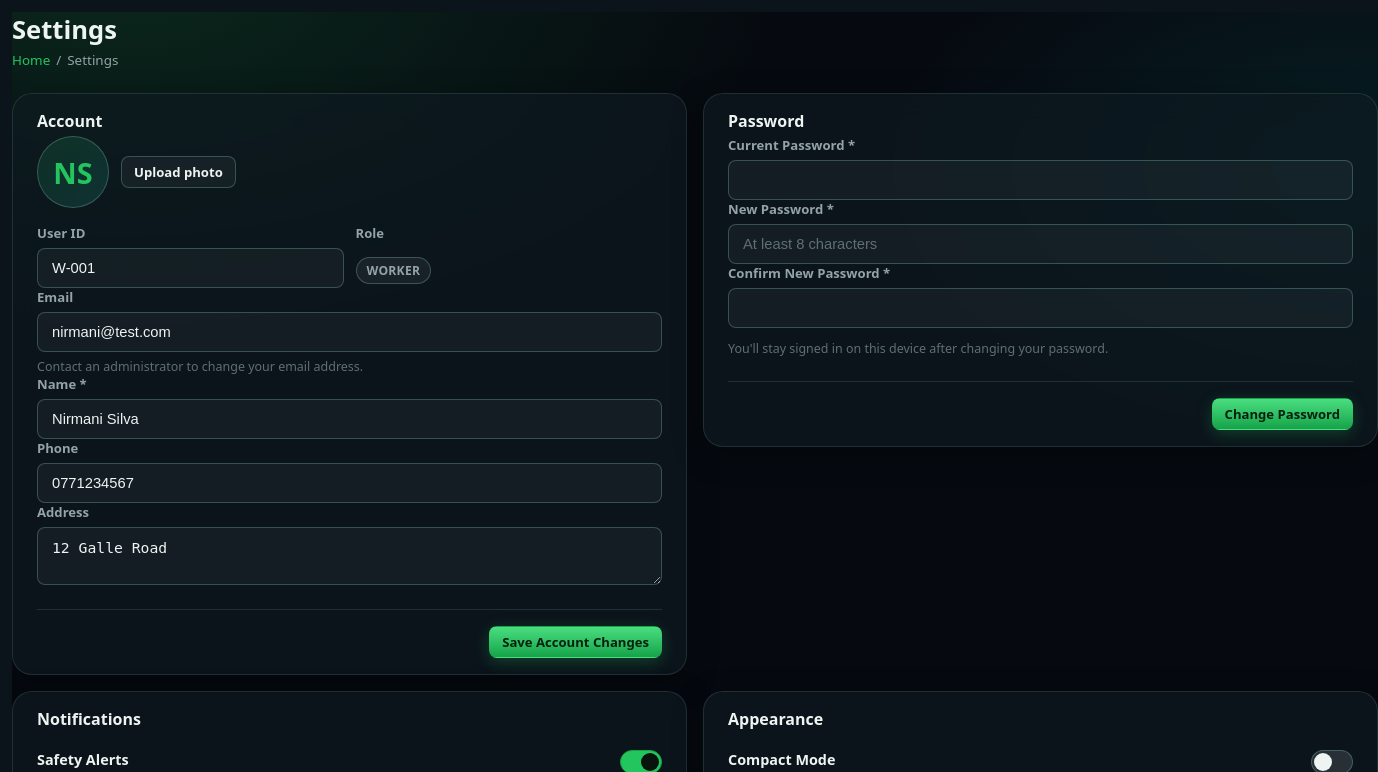
Test: SettingsPage — Password › client-side validation: required fields and mismatch
Expected: the field showing "Nirmani Silva" is shown, [37,399,662,439]
Click the button "Change Password": coordinates (1282, 414) [1212,398,1353,430]
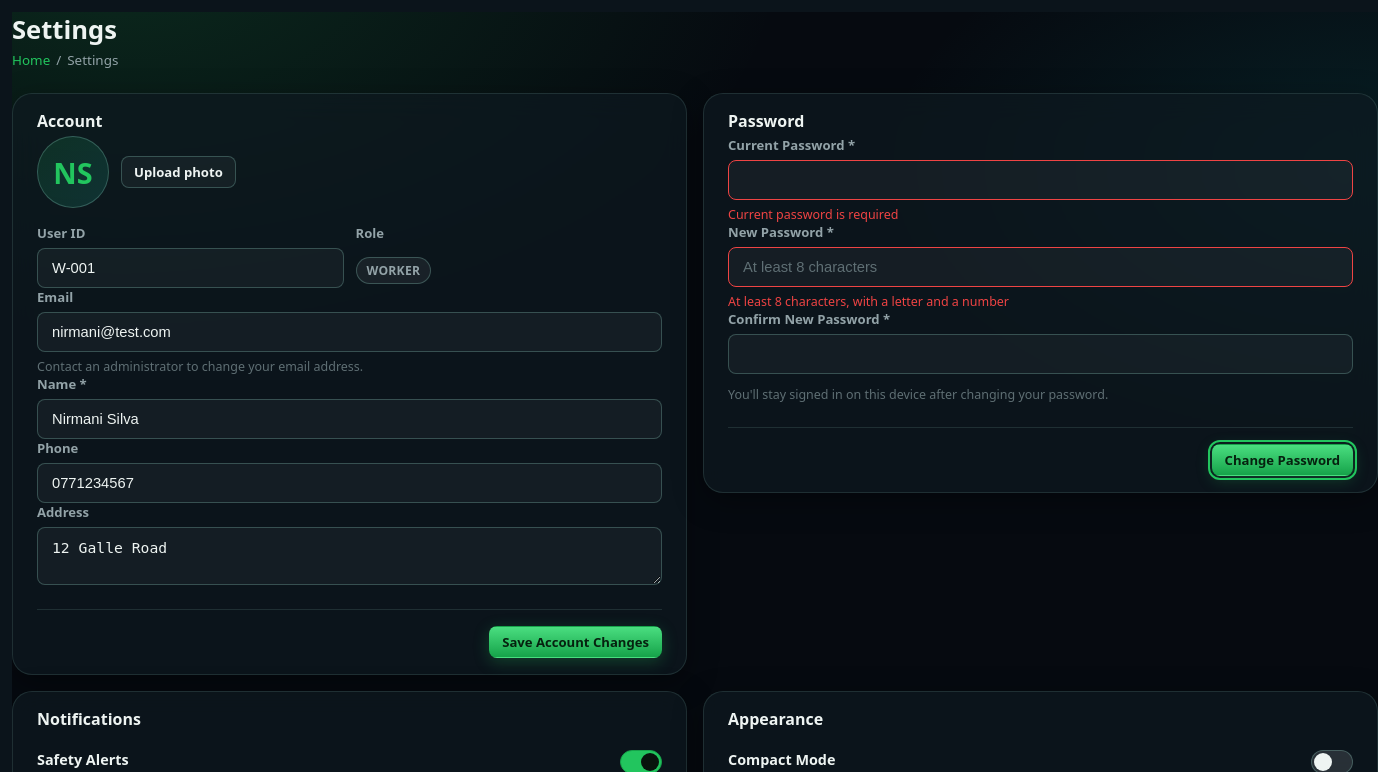
Result: the text "Current password is required" is shown at [728,206,898,223]
In the password field labelled "Current Password *": coordinates (1040, 180) [728,160,1353,200], type "OldPass1"
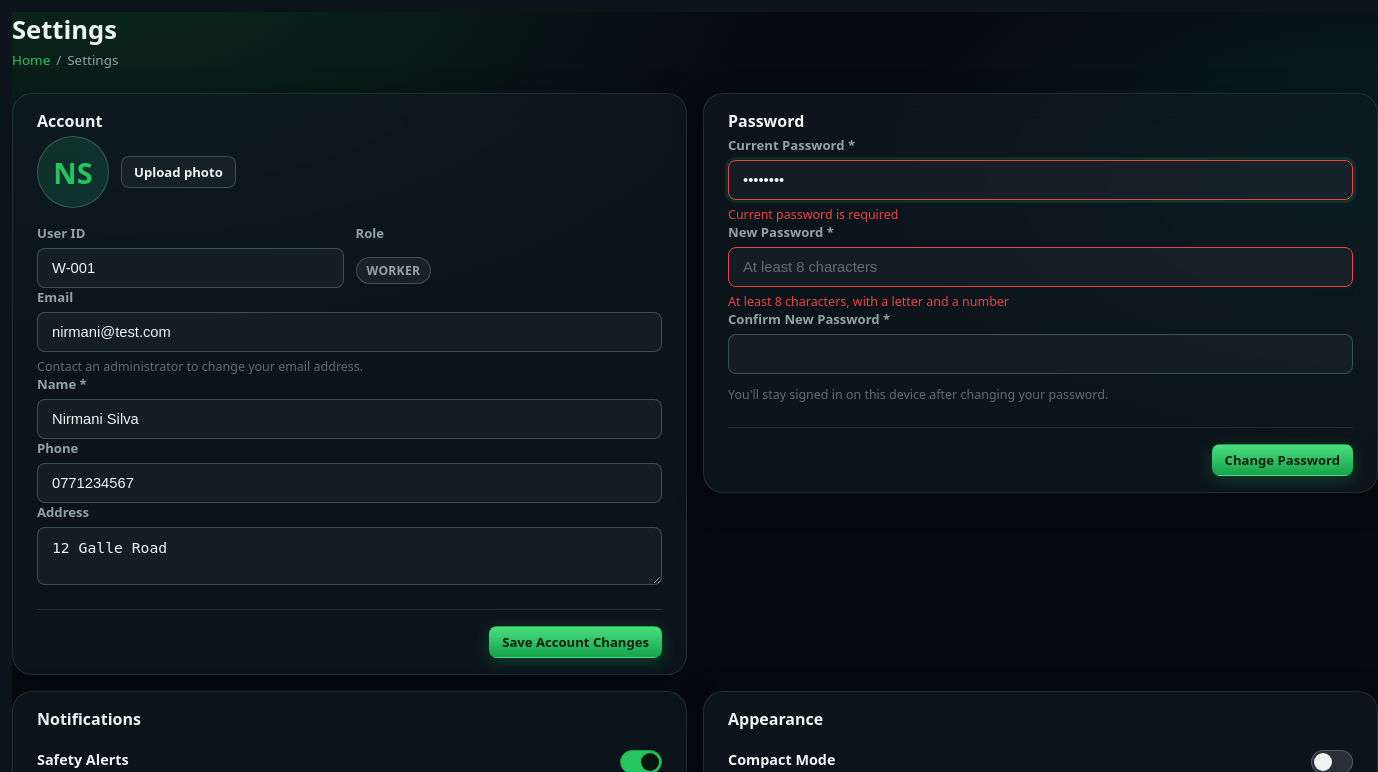
In the password field labelled "New Password *": coordinates (1040, 267) [728,247,1353,287], type "NewPass2"
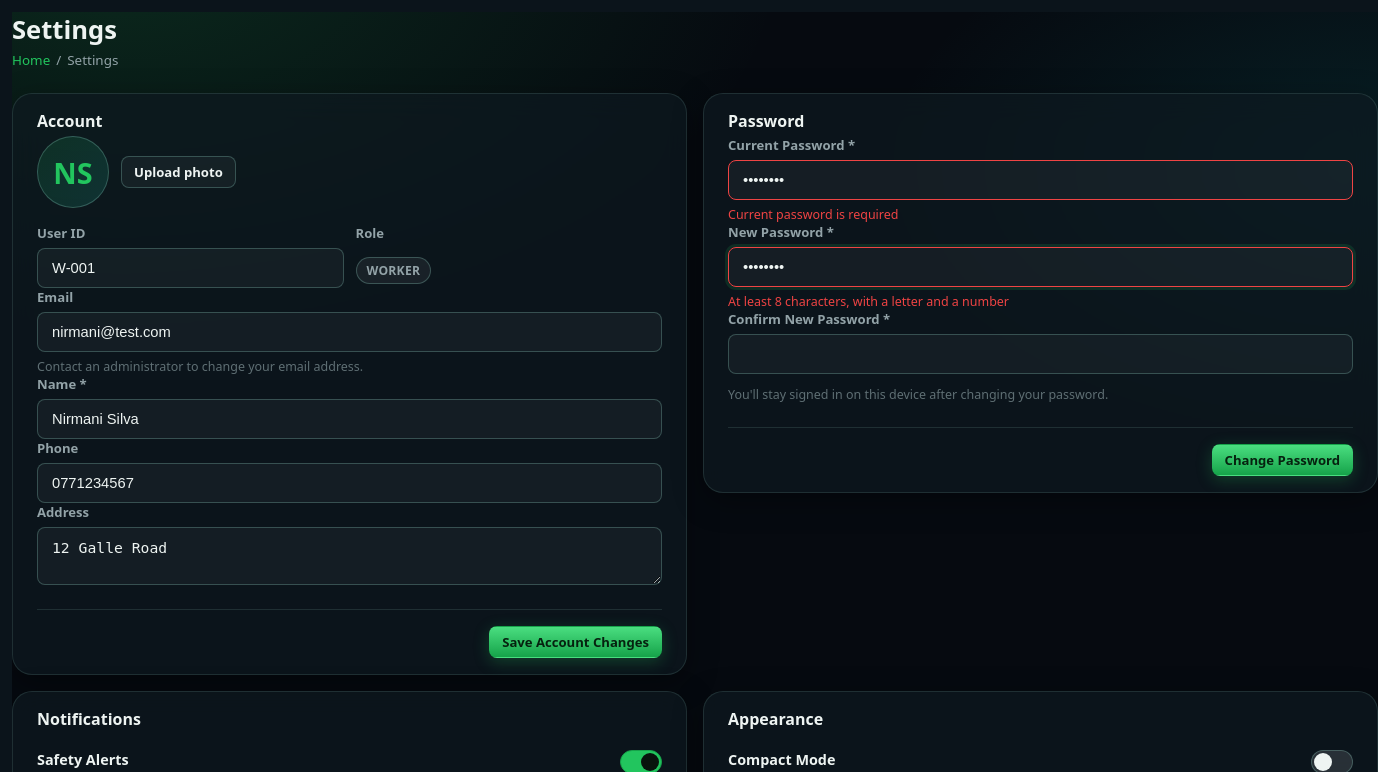
In the password field labelled "Confirm New Password *": coordinates (1040, 354) [728,334,1353,374], type "Different3"
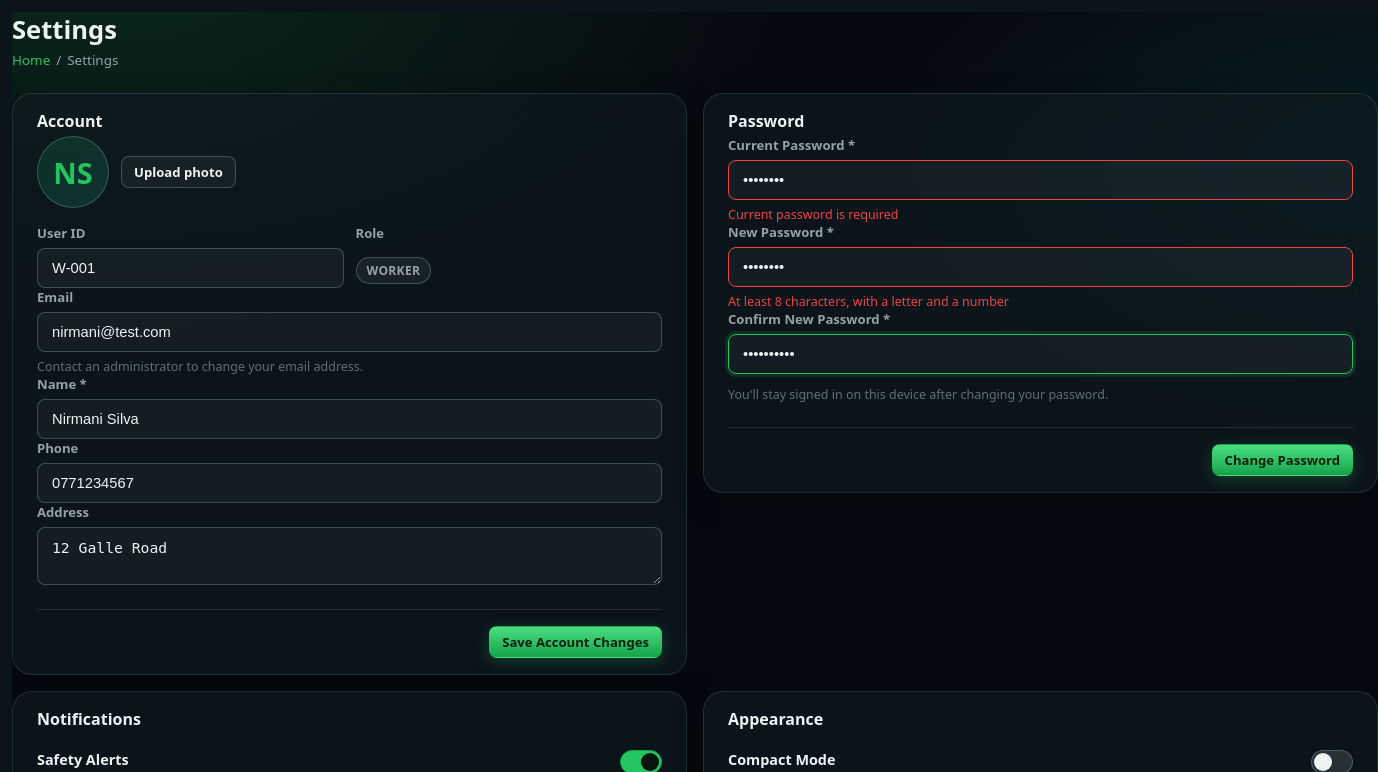
Click the button "Change Password": coordinates (1282, 460) [1212,444,1353,476]
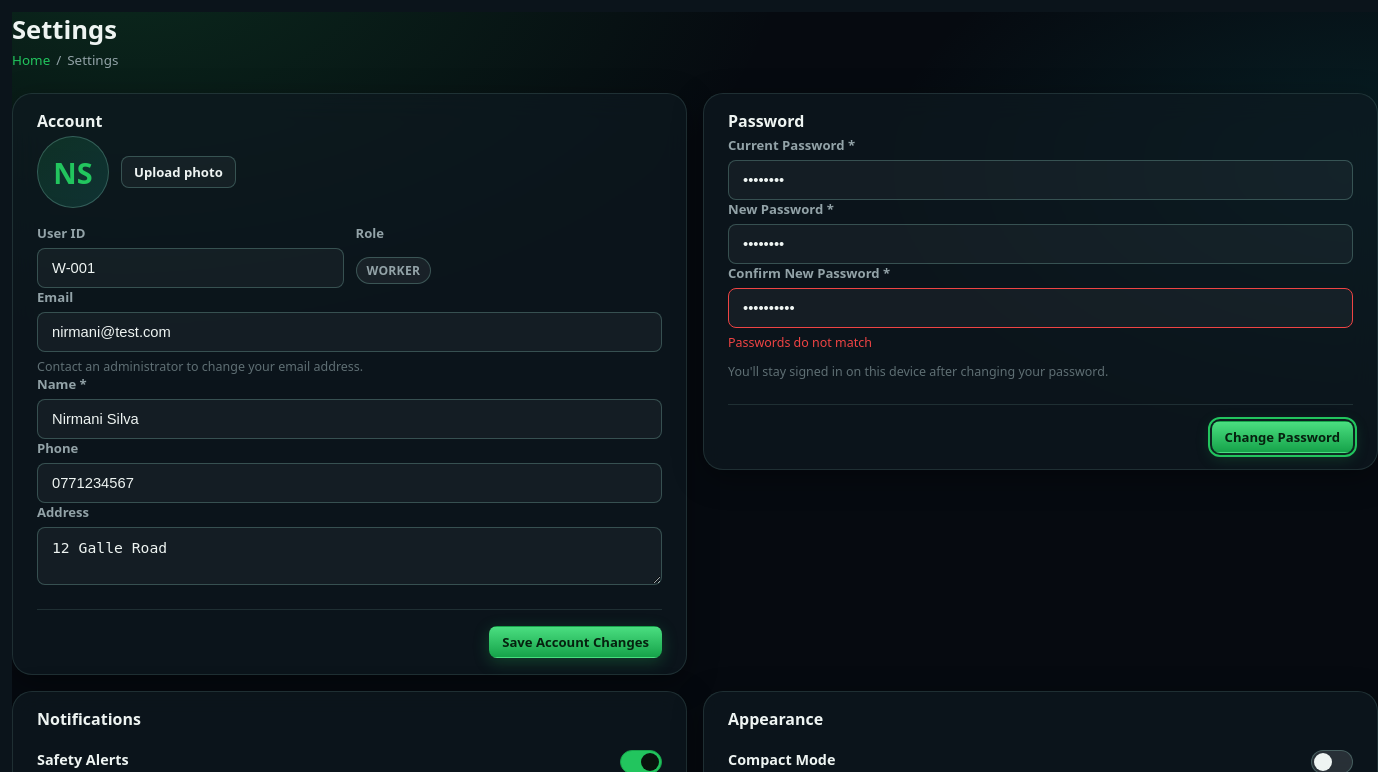
Result: the text "Passwords do not match" is shown at [728,334,872,351]
